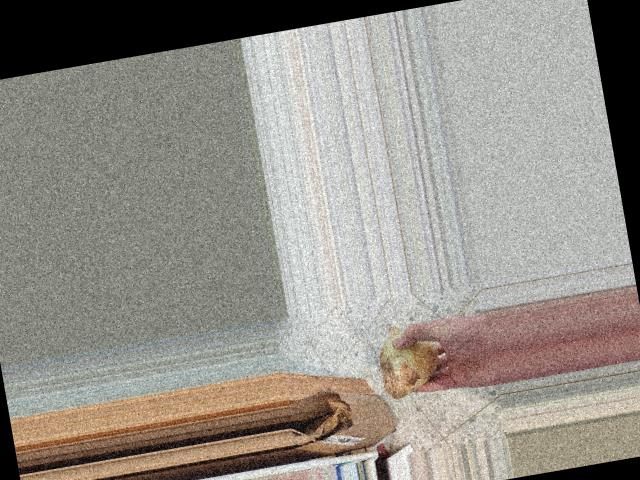onion: (367, 322, 449, 402)
